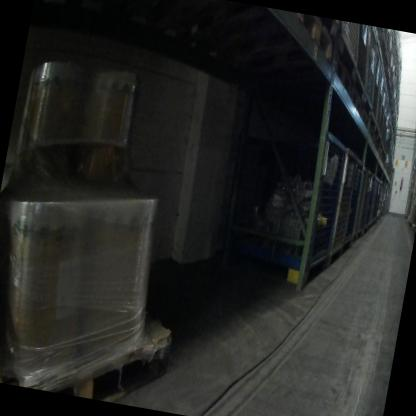pallet: (0, 279, 188, 409), (7, 123, 120, 193), (267, 10, 338, 64)
stillage: (229, 112, 352, 290), (324, 141, 362, 270), (347, 25, 384, 104), (340, 157, 366, 261), (327, 23, 365, 77), (347, 164, 370, 247), (367, 59, 388, 124), (370, 67, 389, 134), (373, 78, 391, 141), (364, 172, 381, 236), (359, 172, 376, 235), (357, 169, 373, 235), (380, 111, 394, 156), (378, 103, 391, 145)
